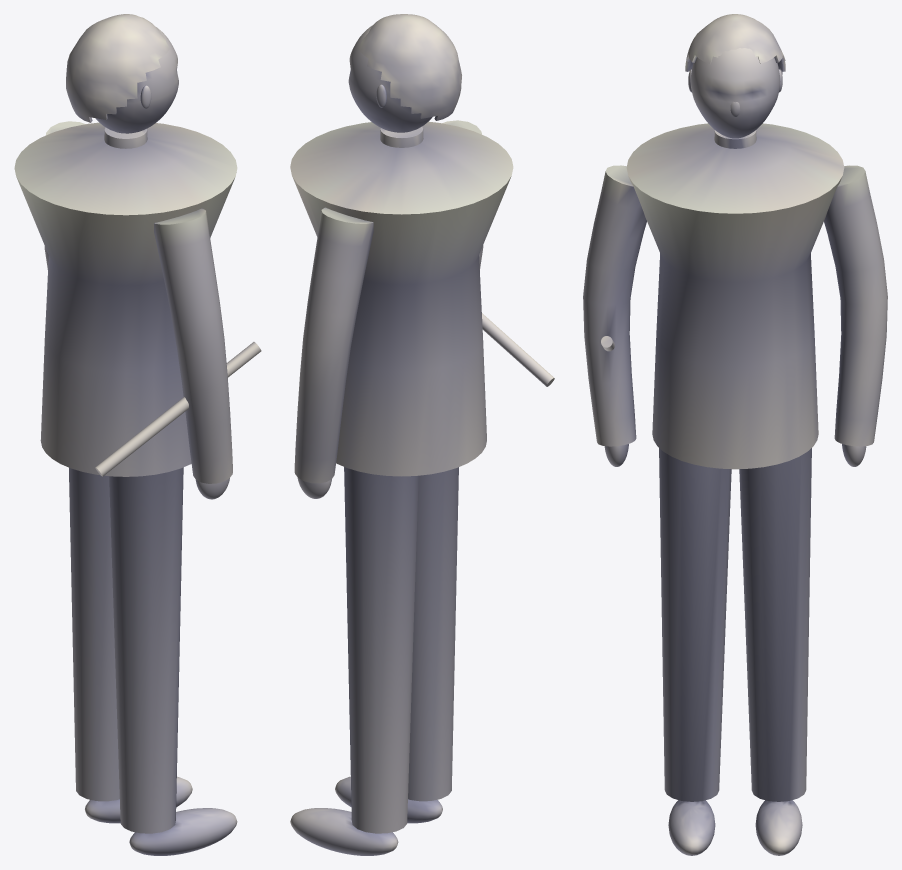
The model's file is pomfret.glb.
3 views of the same model, side by side, from view 1: azimuth 30°, elevation 25°; view 2: azimuth 150°, elevation 25°; view 3: azimuth 270°, elevation 25° (orthographic). The views are drawn at different scales.
Parts seen in each view (by area): view 1: body; view 2: body; view 3: body.
Part boxes in pixels (x1,y1,x2,y2): body: (14, 14, 261, 855); body: (290, 14, 554, 855); body: (583, 14, 887, 855).
Size of the model in its own units: 0.44 by 1.8 by 0.6158.
